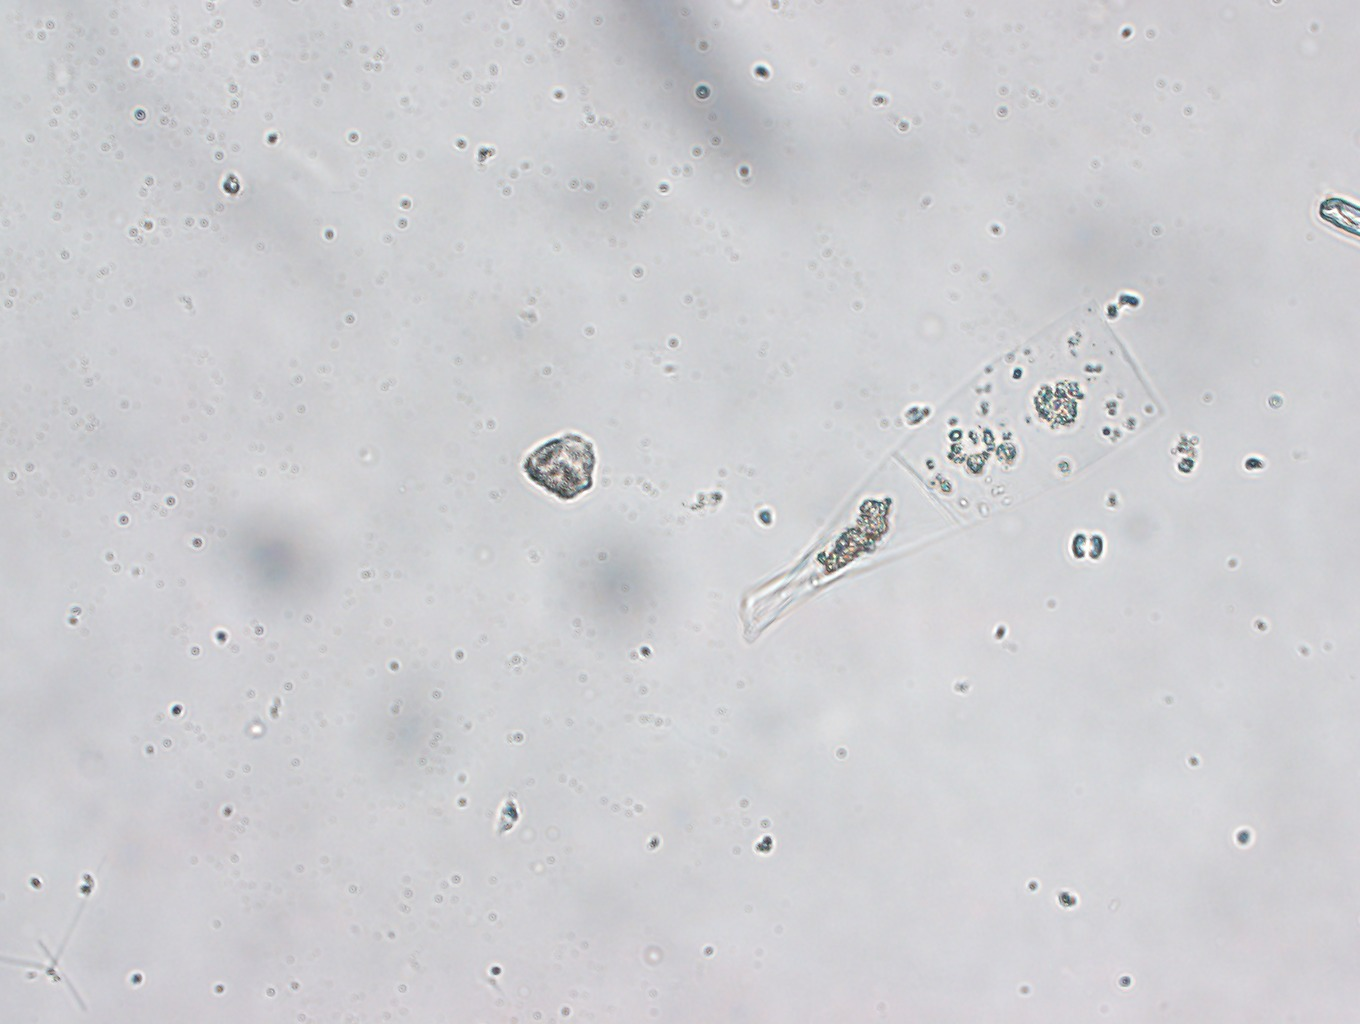helicotheca: (739, 301, 1163, 648)
